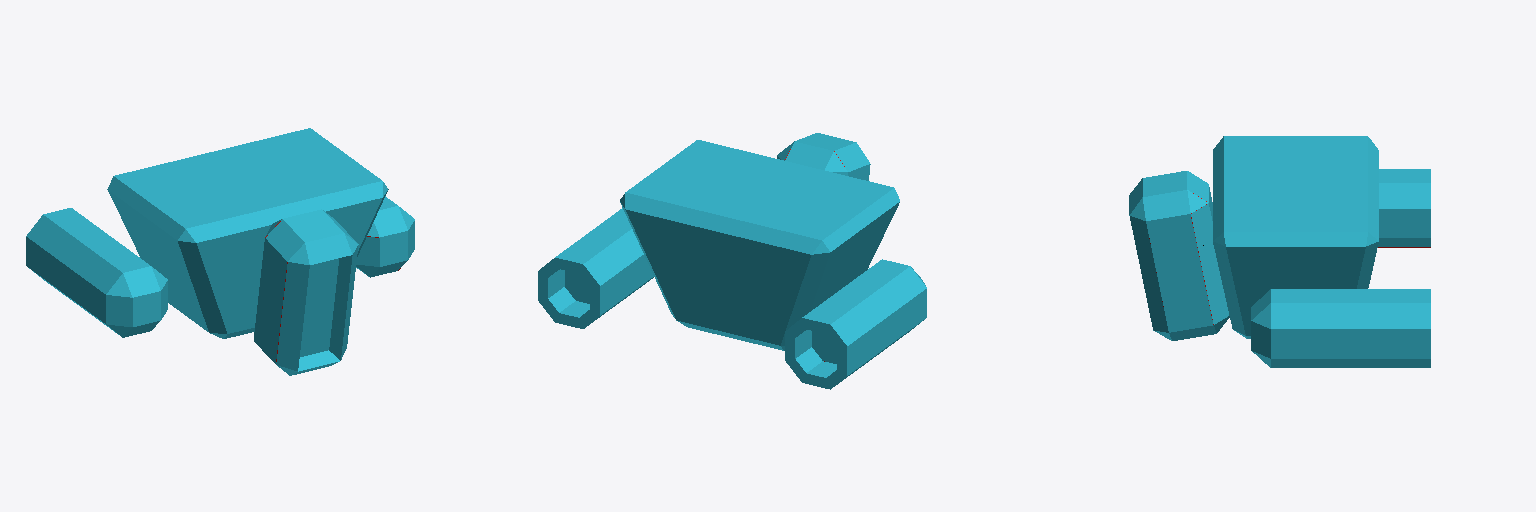
3 views of the same model, side by side, from view 1: azimuth 30°, elevation 25°; view 2: azimuth 150°, elevation 25°; view 3: azimuth 270°, elevation 25° (orthographic).
Visible parts, largest first — view 1: Body; view 2: Body; view 3: Body.
Part boxes in pixels (x1,y1,x2,y2): Body: (26,128,414,375); Body: (538,133,926,389); Body: (1129,136,1430,367).
Size of the model in its own units: 1.99 by 0.9328 by 1.68.
1 materials, 1 textured.